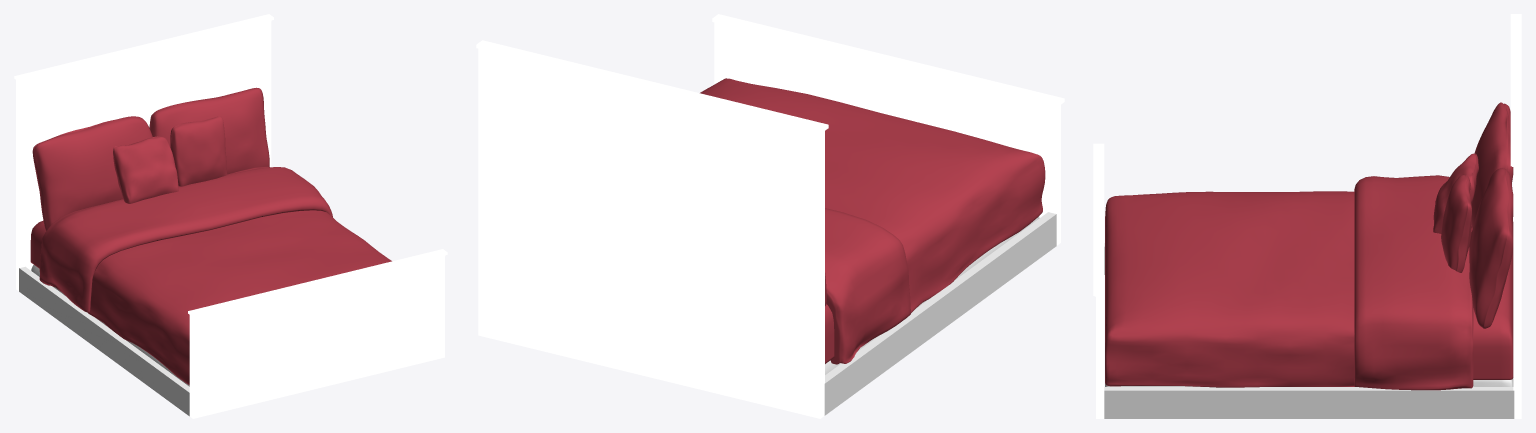
File: bed.glb
The picture shows the model from 3 angles, left to right: view 1: azimuth 30°, elevation 25°; view 2: azimuth 150°, elevation 25°; view 3: azimuth 270°, elevation 25°; orthographic projection. The views are drawn at different scales.
Visible parts, largest first — view 1: Box14544, Box14540, Box14541, Box14543, Box14539, Box14546, Box14548, Box14547, Box14542; view 2: Box14541, Box14544, Box14540, Box14539; view 3: Box14544, Box14538, Box14546, Box14541, Box14542, Box14540, Box14543, Box14547, Box14548.
Part boxes in pixels (x1,y1,x2,y2): Box14544: (39,166,391,384); Box14540: (188,249,447,418); Box14541: (14,14,273,291); Box14543: (32,116,152,230); Box14539: (19,266,189,416); Box14546: (149,87,269,174); Box14548: (113,136,178,203); Box14547: (170,116,227,186); Box14542: (30,220,46,268); Box14541: (476,40,828,418); Box14544: (700,78,1045,364); Box14540: (712,14,1064,245); Box14539: (824,212,1056,415); Box14544: (1105,175,1473,390); Box14538: (1104,387,1514,418); Box14546: (1469,168,1513,328); Box14541: (1510,14,1521,418); Box14542: (1105,216,1513,379); Box14540: (1093,143,1104,418); Box14543: (1471,102,1513,228); Box14547: (1441,175,1471,272); Box14548: (1433,153,1478,233).
Bounding box in the file's own units: 2.63 × 2.1 × 3.18.
